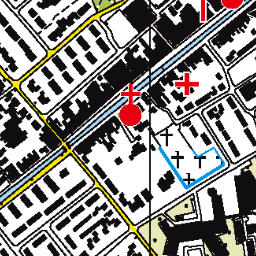church: (115, 83, 145, 128)
